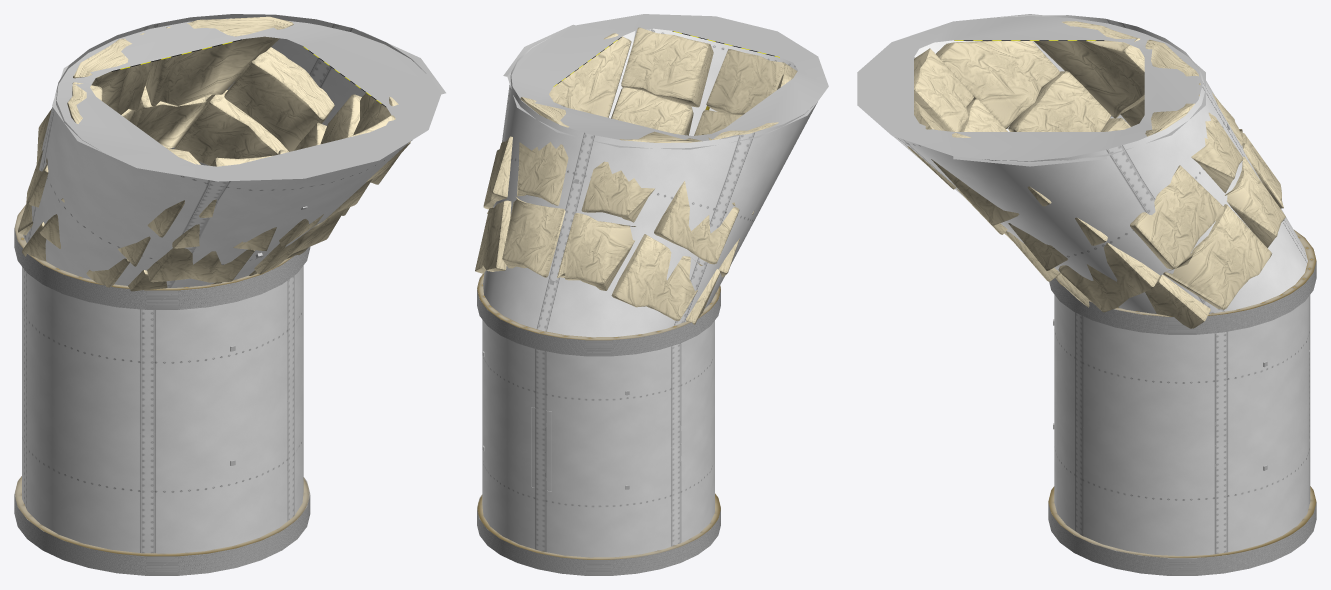
The model's file is ISS_PMA1_INT.FBX.
3 renders of one model, left to right at view 1: azimuth 30°, elevation 25°; view 2: azimuth 150°, elevation 25°; view 3: azimuth 270°, elevation 25°, orthographic. The views are drawn at different scales.
Parts seen in each view (by area): view 1: p500, p644; view 2: p500, p644; view 3: p500, p644.
Part boxes in pixels (x1,y1,x2,y2): p500: (14,14,425,575); p644: (52,18,445,181); p500: (475,27,817,575); p644: (503,14,828,149); p500: (893,15,1316,575); p644: (857,14,1205,166).
Bounding box in the file's own units: 0.178 × 0.2383 × 0.2274.
